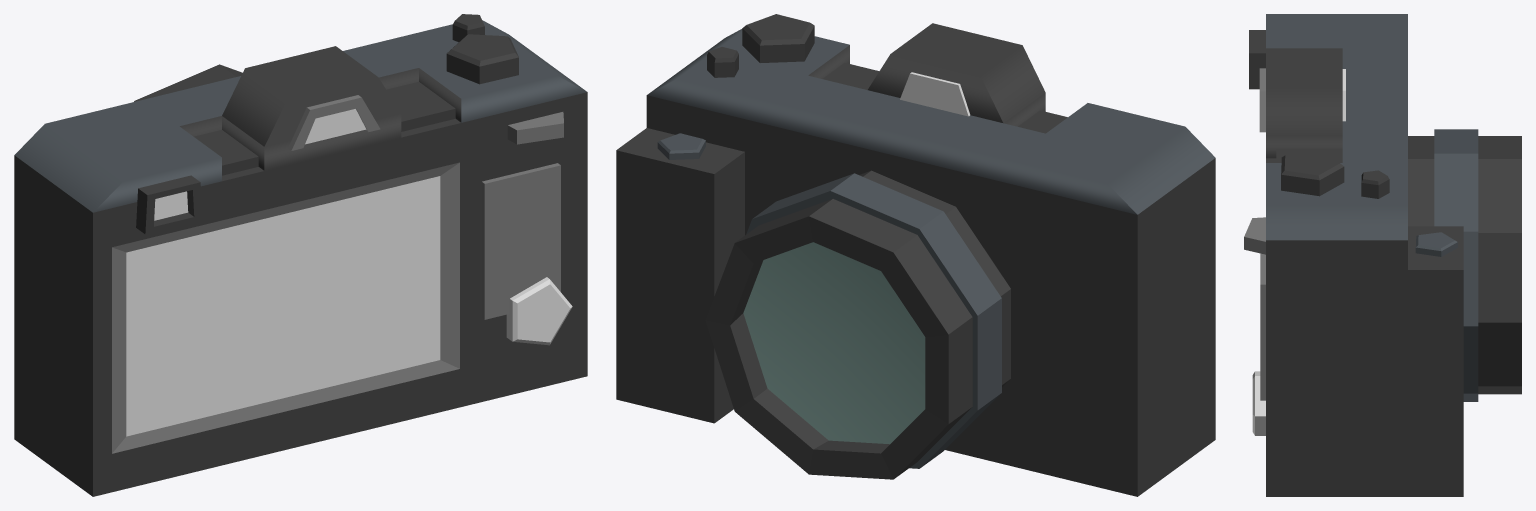
File: camera_new.fbx
The picture shows the model from 3 angles, left to right: view 1: azimuth 30°, elevation 25°; view 2: azimuth 150°, elevation 25°; view 3: azimuth 270°, elevation 25°; orthographic projection. The views are drawn at different scales.
Visible parts, largest first — view 1: camera; view 2: camera; view 3: camera.
Boxes of the visible parts, box(x1,y1,x2,y2) form: camera: box(14, 14, 587, 496); camera: box(616, 14, 1215, 496); camera: box(1244, 14, 1521, 496).
Size of the model in its own units: 27.62 by 18.91 by 14.87.
